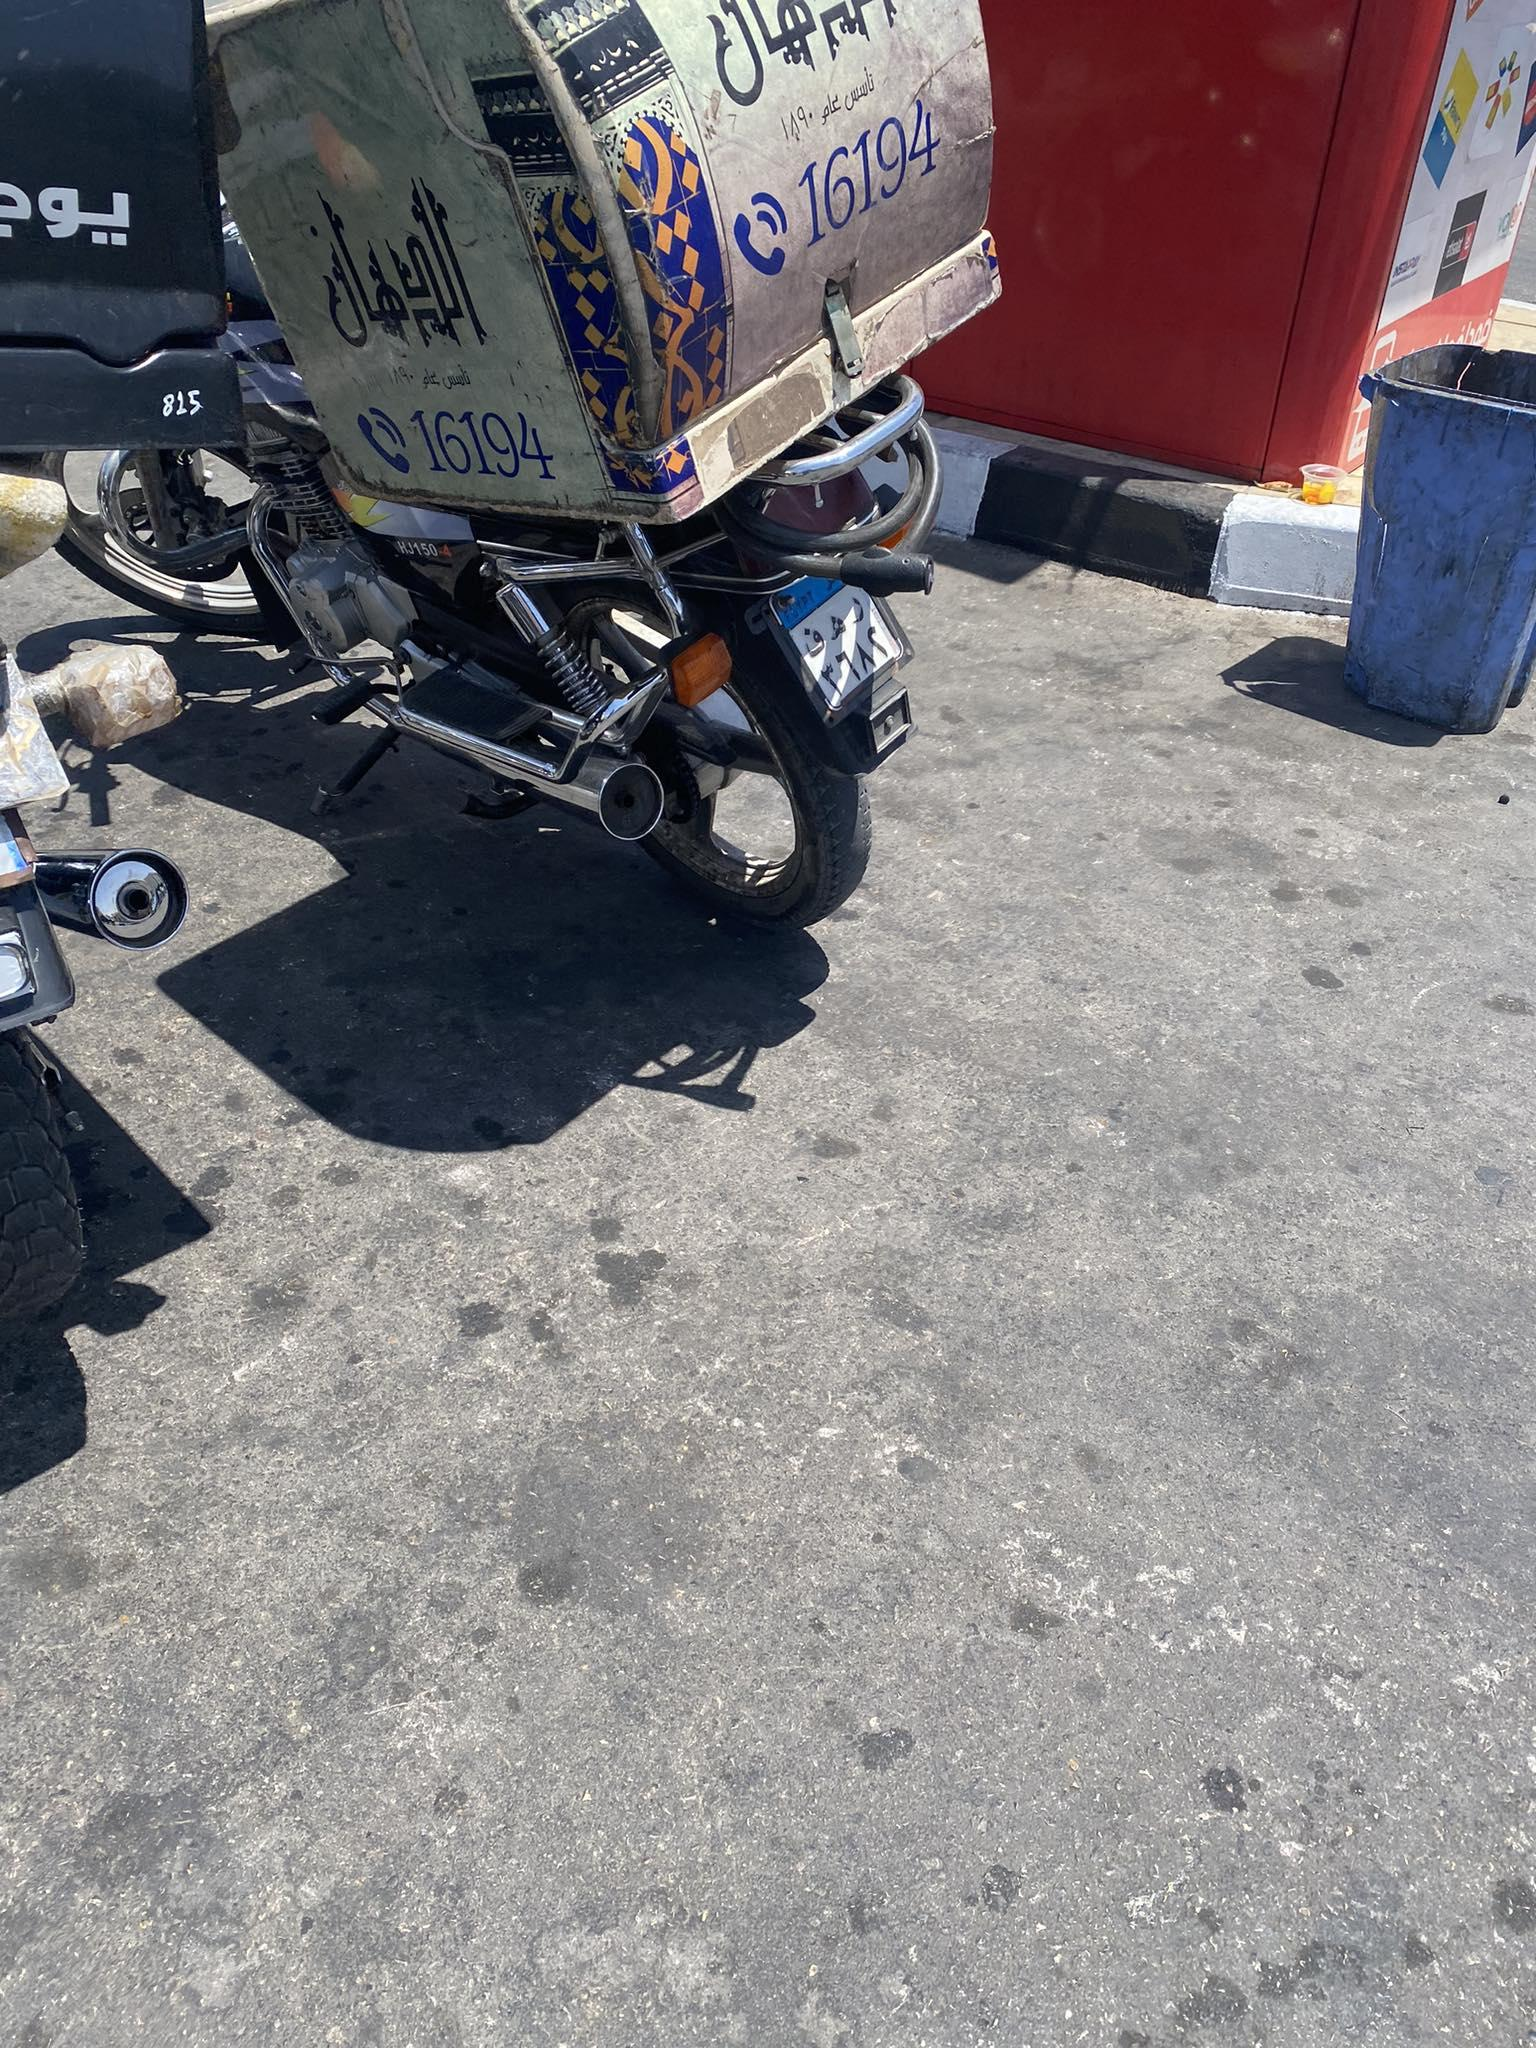License Plate: (775, 573, 920, 716)
